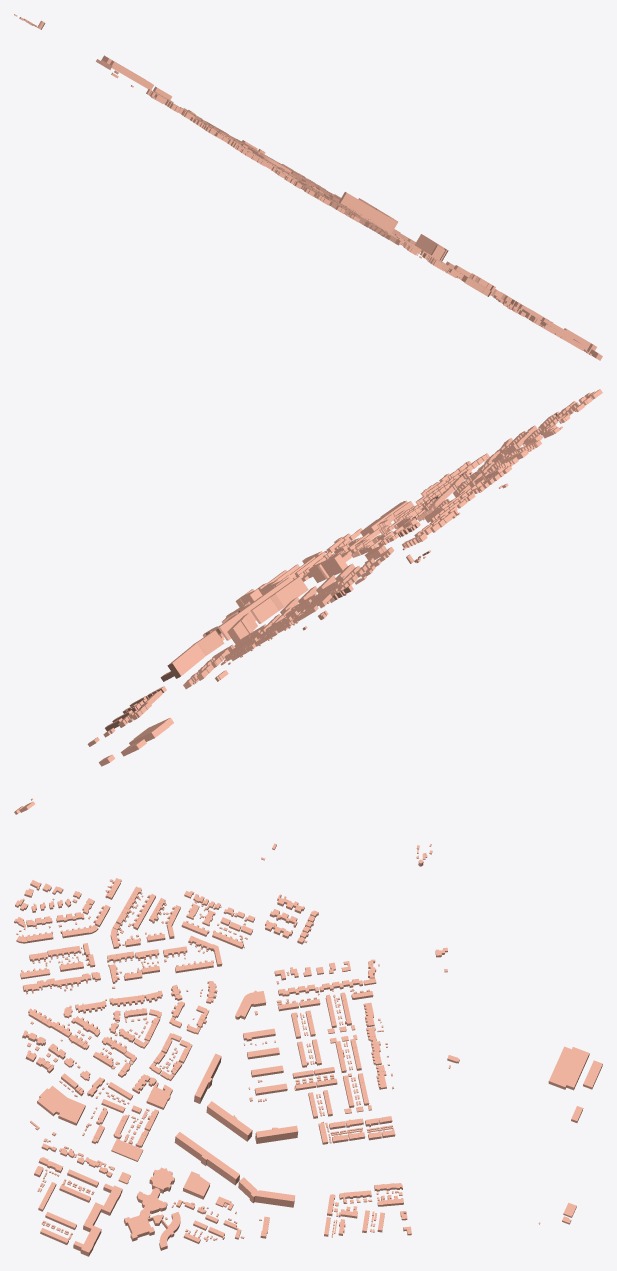
3 renders of one model, top to bottom at view 1: azimuth 30°, elevation 25°; view 2: azimuth 150°, elevation 25°; view 3: azimuth 270°, elevation 25°, orthographic. The views are drawn at different scales.
Bounding box in the file's own units: 712 × 519 × 1083.
